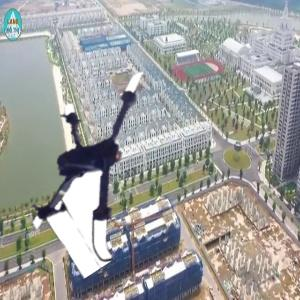drone: (8, 68, 193, 253)
